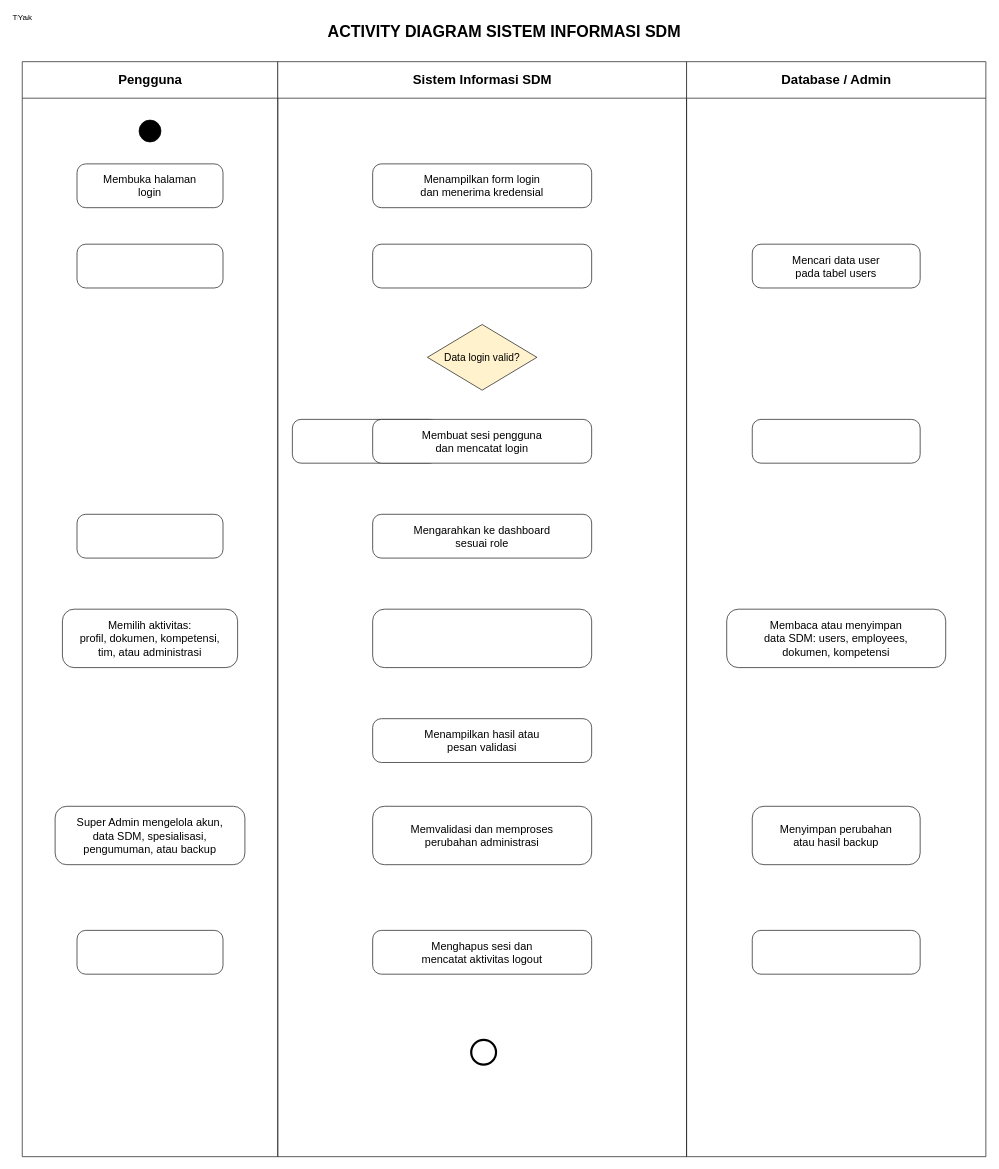
This 999x1169 diagram has some shape labels left out. The centre of each missing label's shape, as x and y in pixels:
"Melihat dashboard pribadi" goes at point (149, 536).
"Memeriksa hak akses dan memproses permintaan" goes at point (482, 638).
"Memilih logout" goes at point (149, 952).
"Memperbarui activity_logs" goes at point (836, 952).
"Memvalidasi kredensial dan status akun" goes at point (482, 265).
"Menampilkan pesan login gagal" goes at point (365, 441).
"Mengisi login ID dan password" goes at point (149, 265).
"Menyimpan sesi dan activity_logs" goes at point (836, 441).
